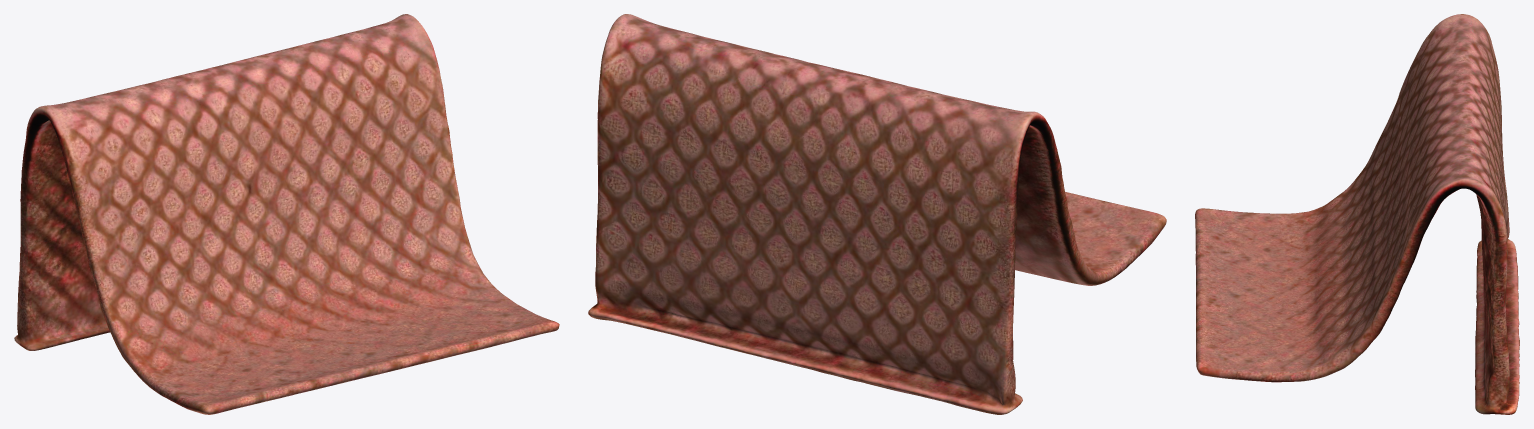
Rendered from copper_fabric_lining.glb.
The picture shows the model from 3 angles, left to right: view 1: azimuth 30°, elevation 25°; view 2: azimuth 150°, elevation 25°; view 3: azimuth 270°, elevation 25°; orthographic projection. The views are drawn at different scales.
Parts seen in each view (by area): view 1: high_poly; view 2: high_poly; view 3: high_poly.
Part boxes in pixels (box(x1,y1,x2,y2)): high_poly: box(14, 14, 559, 414); high_poly: box(588, 14, 1166, 414); high_poly: box(1195, 14, 1519, 414).
Bounding box in the file's own units: 1 × 0.6403 × 0.7994.
Materials: 1 (1 with a texture image).
